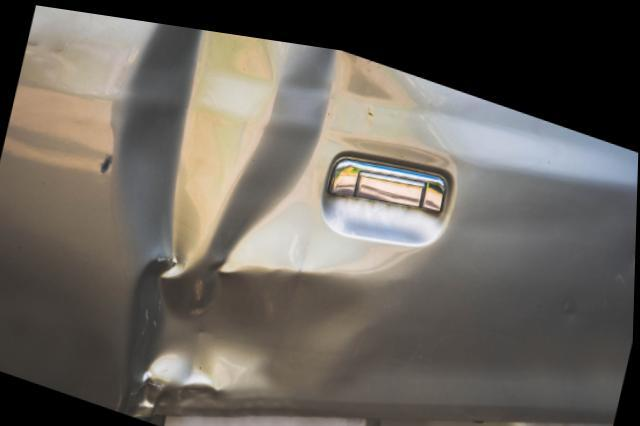dent: (115, 18, 451, 413), (629, 229, 636, 246)
